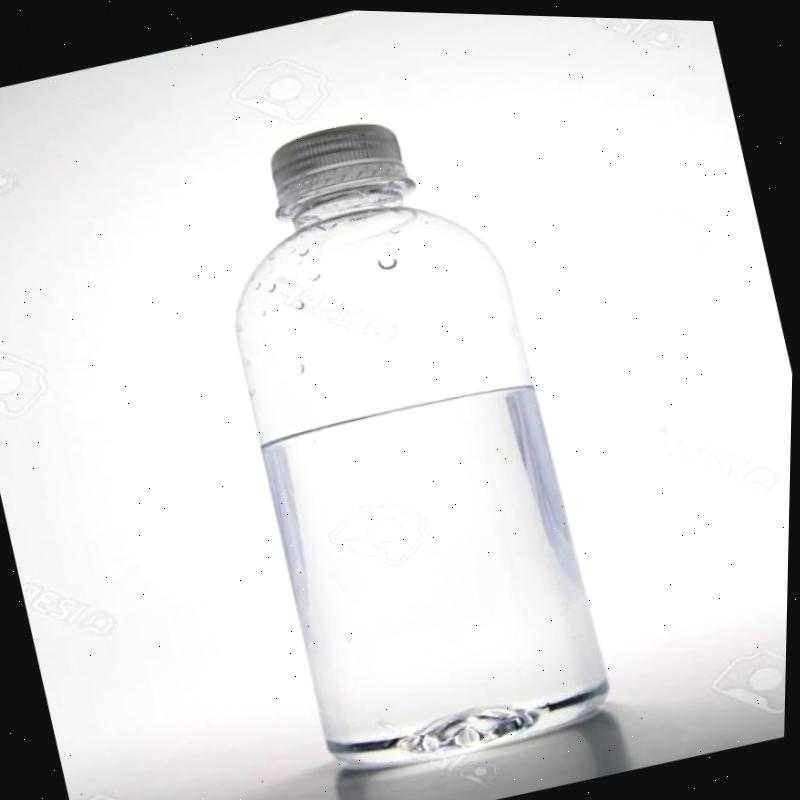botella: (177, 83, 638, 786)
